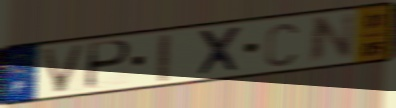C: (263, 21, 300, 69)
I: (157, 31, 173, 84)
N: (305, 10, 357, 67)
P: (83, 39, 134, 92)
V: (38, 43, 89, 95)
X: (196, 24, 244, 79)
